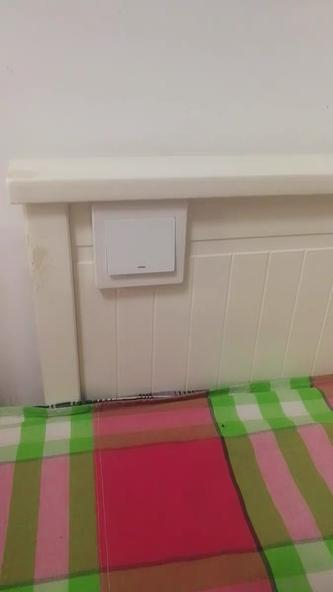switch: (92, 214, 192, 285)
